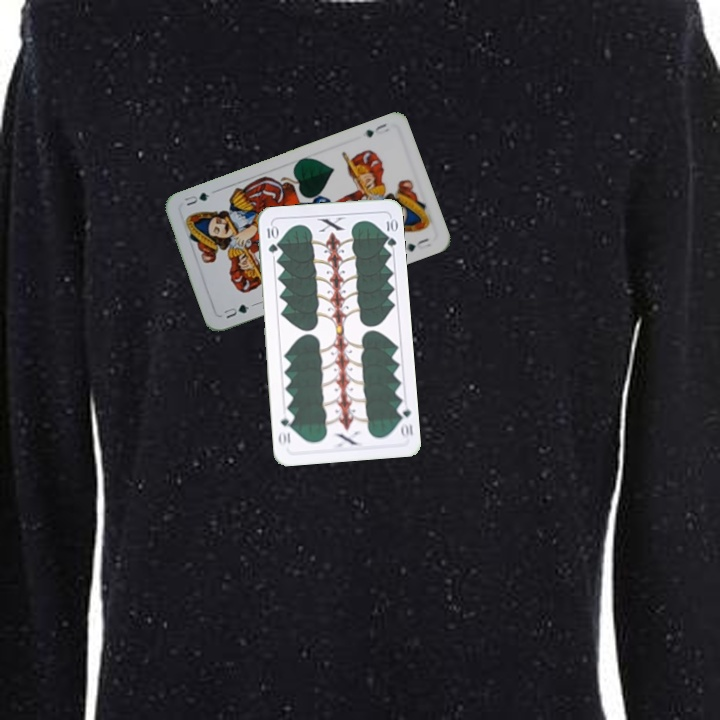G10: (394, 400, 416, 441), (263, 221, 280, 255)
GU: (219, 300, 252, 321), (361, 119, 392, 140)
